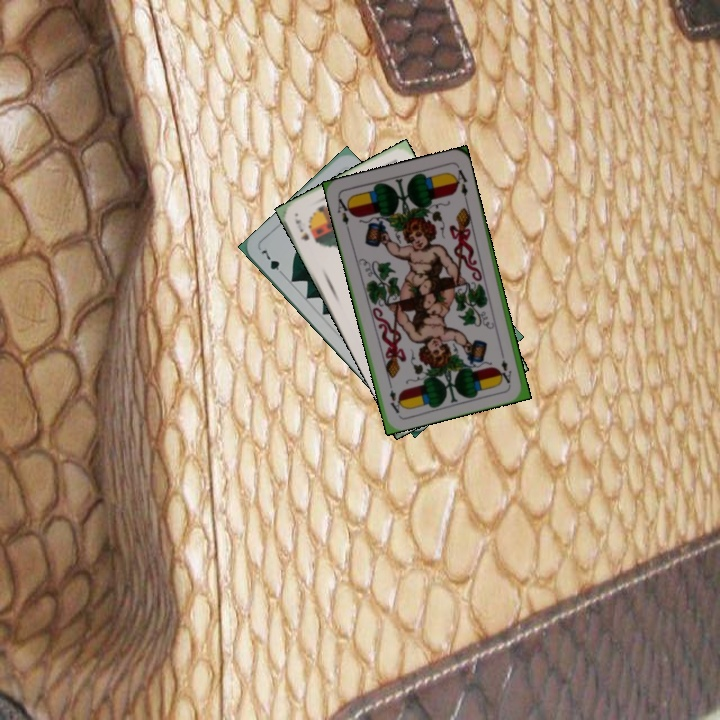EA: (496, 346, 514, 386), (333, 193, 354, 227)
G7: (257, 244, 287, 279)
SO: (291, 214, 312, 243)
